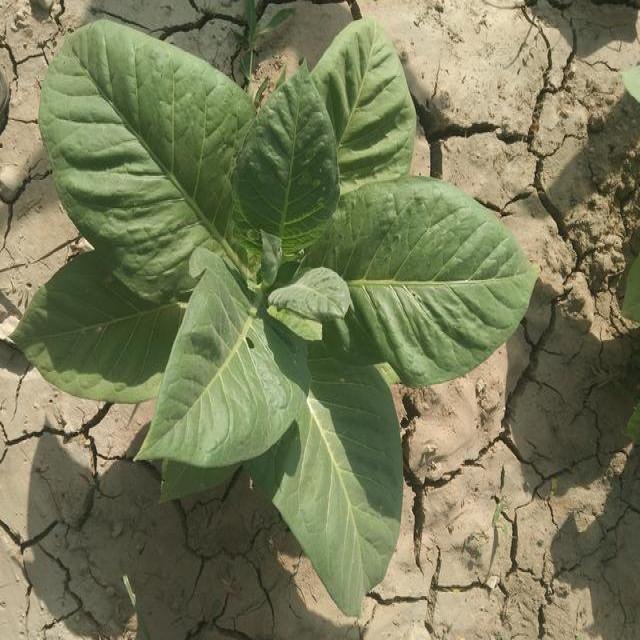crop: (24, 19, 534, 590)
